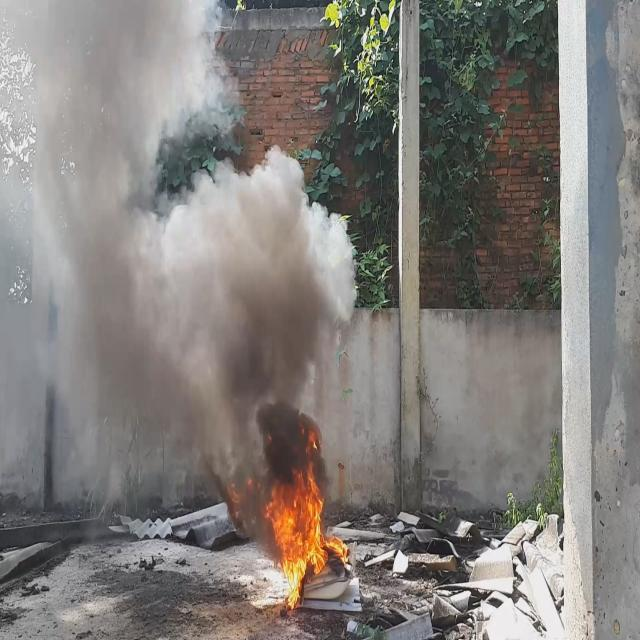Fire: (266, 463, 352, 611)
Smoke: (0, 0, 357, 559)
